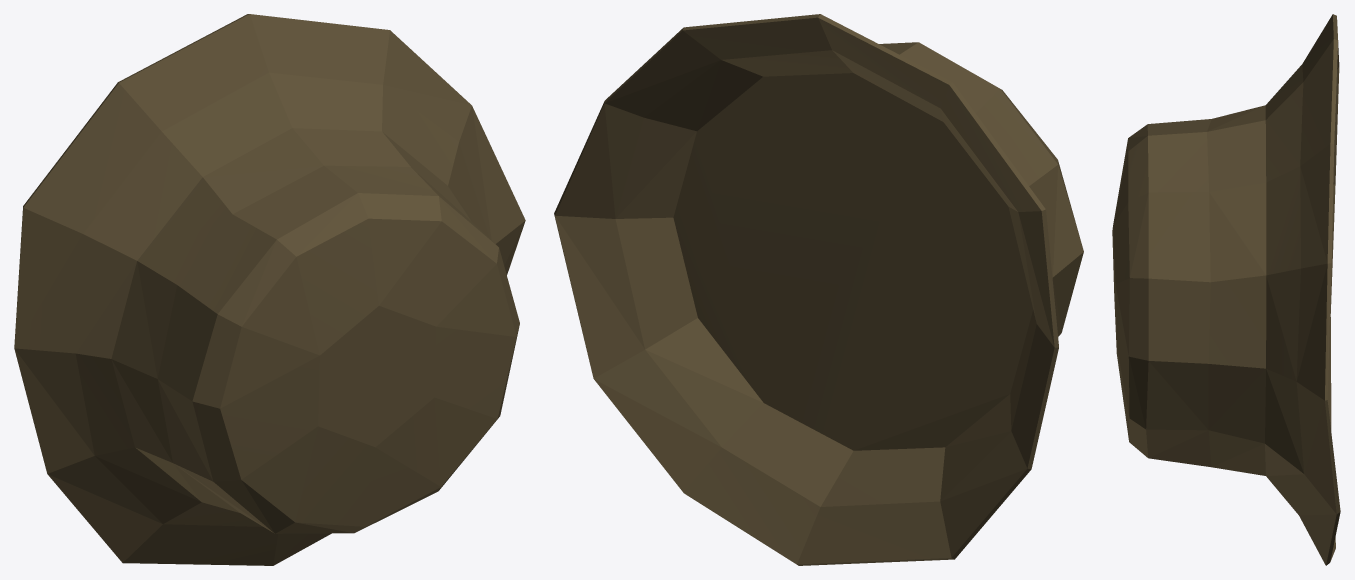
File: BucketHat.glb
The picture shows the model from 3 angles, left to right: view 1: azimuth 30°, elevation 25°; view 2: azimuth 150°, elevation 25°; view 3: azimuth 270°, elevation 25°; orthographic projection. The views are drawn at different scales.
Parts seen in each view (by area): view 1: BucketHat; view 2: BucketHat; view 3: BucketHat.
Part boxes in pixels (x1,y1,x2,y2): BucketHat: (14, 14, 525, 565); BucketHat: (554, 14, 1083, 565); BucketHat: (1112, 14, 1340, 565).
Bounding box in the file's own units: 0.2543 × 0.2665 × 0.1098.
1 material, 1 textured.
